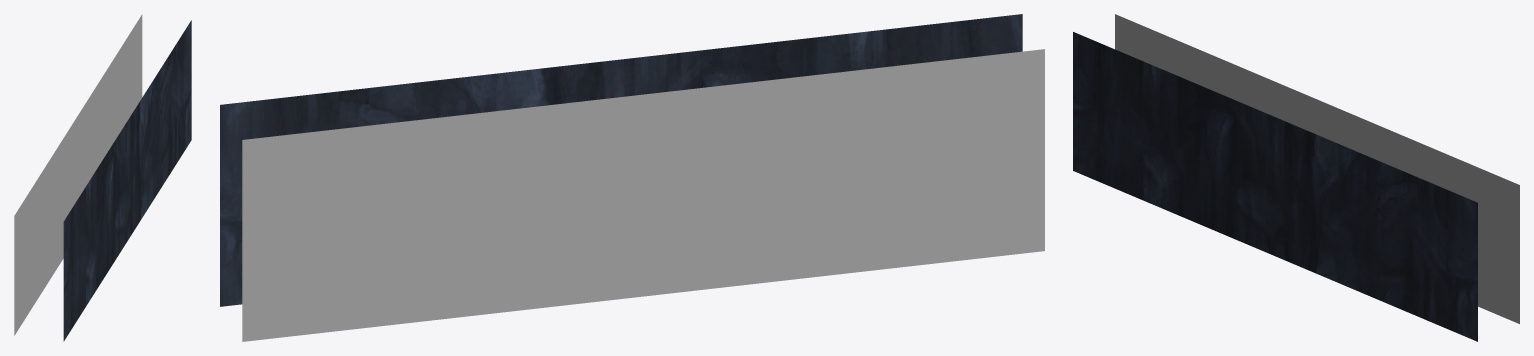
Rendered from mine_quarter_diagonal_01.fbx.
3 views of the same model, side by side, from view 1: azimuth 30°, elevation 25°; view 2: azimuth 150°, elevation 25°; view 3: azimuth 270°, elevation 25° (orthographic). The views are drawn at different scales.
Visible parts, largest first — view 1: obj1.013; view 2: obj1.013; view 3: obj1.013.
Boxes of the visible parts, x1,y1,x2,y2 form: obj1.013: (14, 14, 191, 341); obj1.013: (220, 14, 1044, 341); obj1.013: (1073, 14, 1519, 341).
Size of the model in its own units: 4 by 1.38 by 4.
